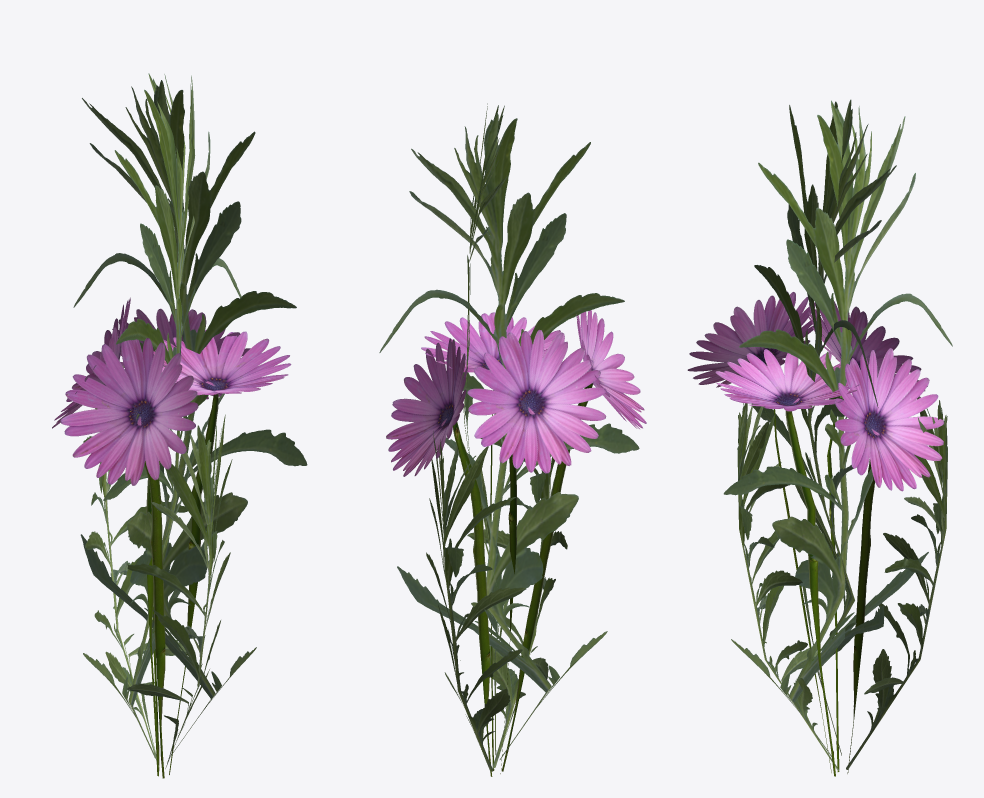
File: Flower 1.fbx
3 views of the same model, side by side, from view 1: azimuth 30°, elevation 25°; view 2: azimuth 150°, elevation 25°; view 3: azimuth 270°, elevation 25° (orthographic). The views are drawn at different scales.
Visible parts, largest first — view 1: Flower_1; view 2: Flower_1; view 3: Flower_1.
Boxes of the visible parts, left/top/right/bottom form: Flower_1: left=52, top=73, right=307, bottom=778; Flower_1: left=379, top=103, right=646, bottom=776; Flower_1: left=687, top=99, right=952, bottom=776.
Size of the model in its own units: 0.1486 by 0.4398 by 0.1622.
